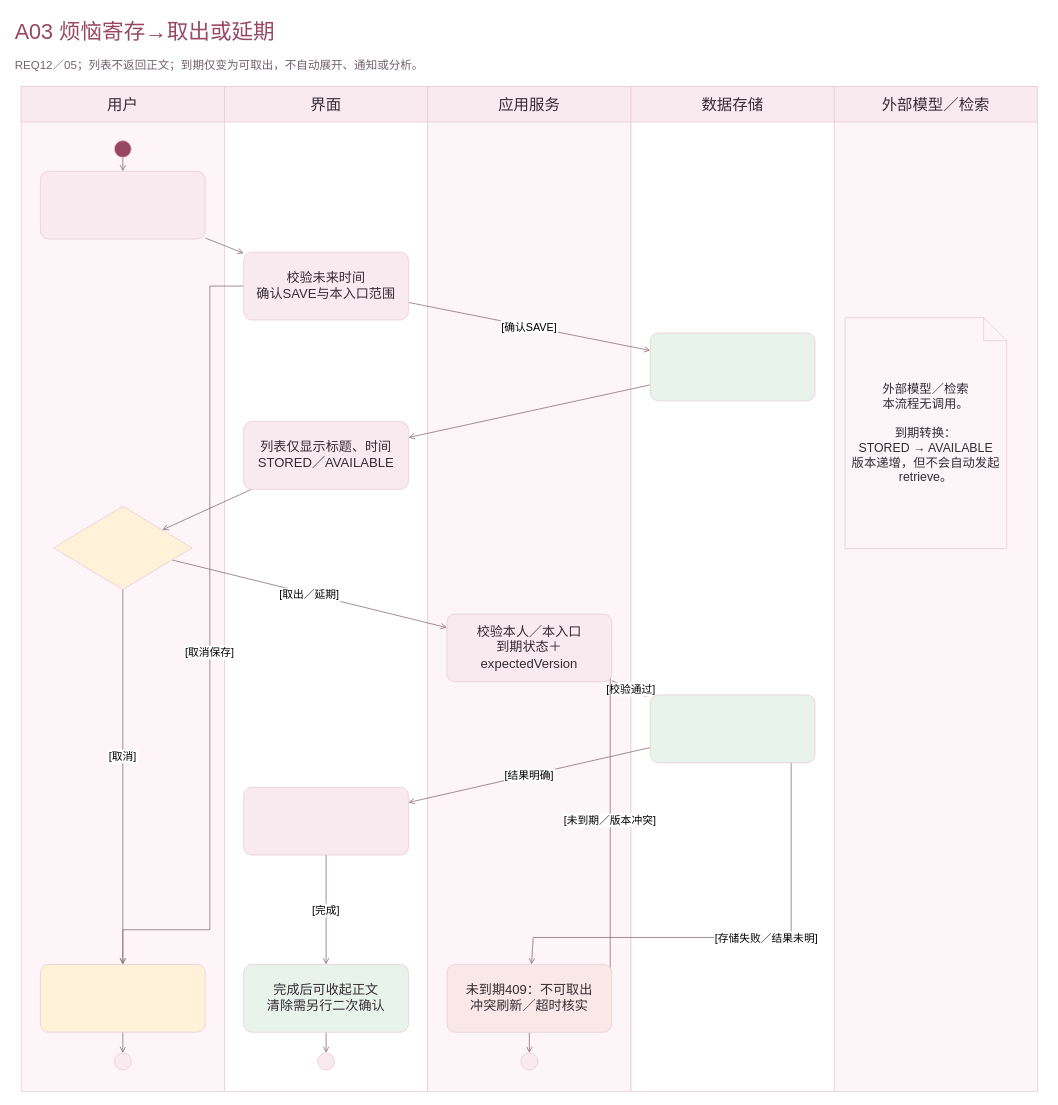
This 1058x1105 diagram has some shape labels left out. The shapes that lost their labels are listed below. From the top down, each one's box as (x1, y1, x2, y2) in pixels, then its label:
(40, 171, 205, 239): 输入标题、正文 选择未来再打开时间
(649, 332, 815, 401): 保存DEPOSIT 状态STORED／版本
(53, 506, 192, 589): 取出或延期？
(649, 694, 815, 763): 取出：到期才读正文 延期：更新未来时间／版本
(243, 787, 408, 855): 本人主动取出后显示正文 延期仅更新日期与状态
(40, 964, 205, 1032): 取消保存／操作 不修改寄存状态
